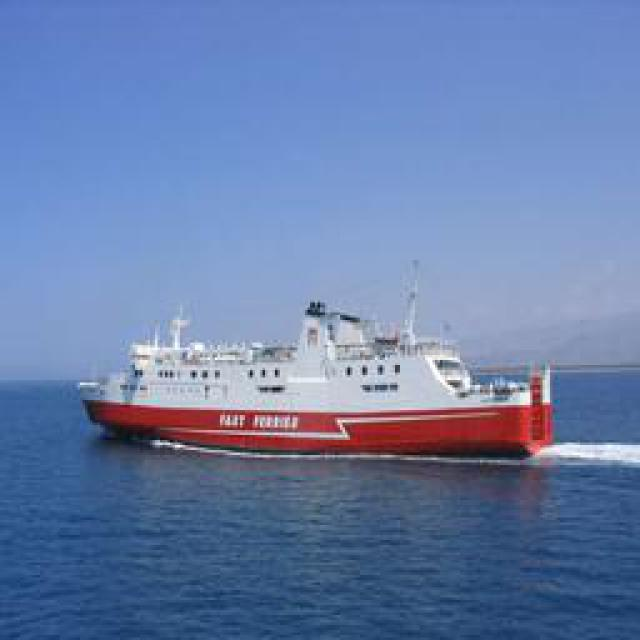Ship: (85, 266, 573, 461)
